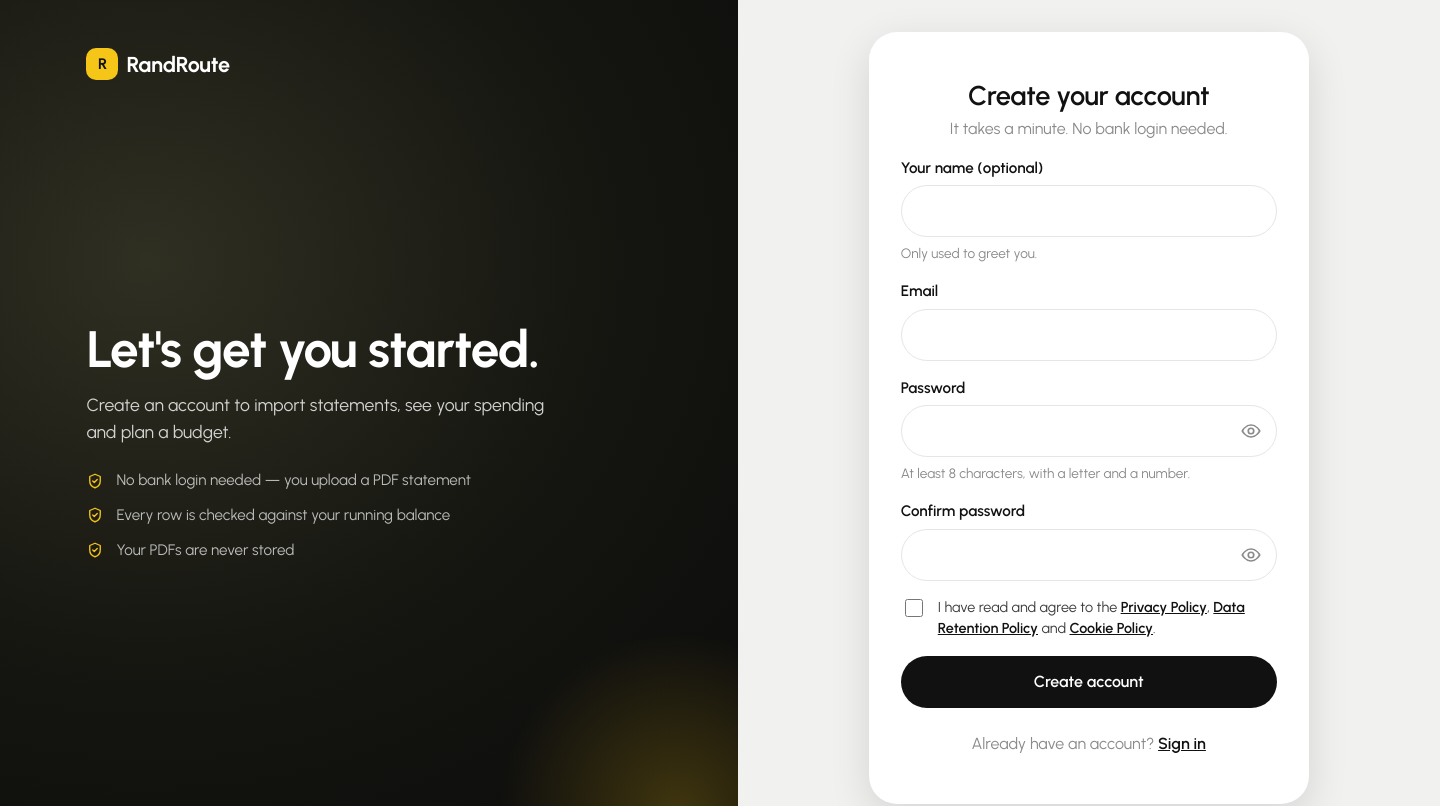
it: signed out › checks the register form before sending it
Type "maredi@example.com" into the field labelled "Email" at (1089, 335), box x1=901 y1=309 x2=1277 y2=361
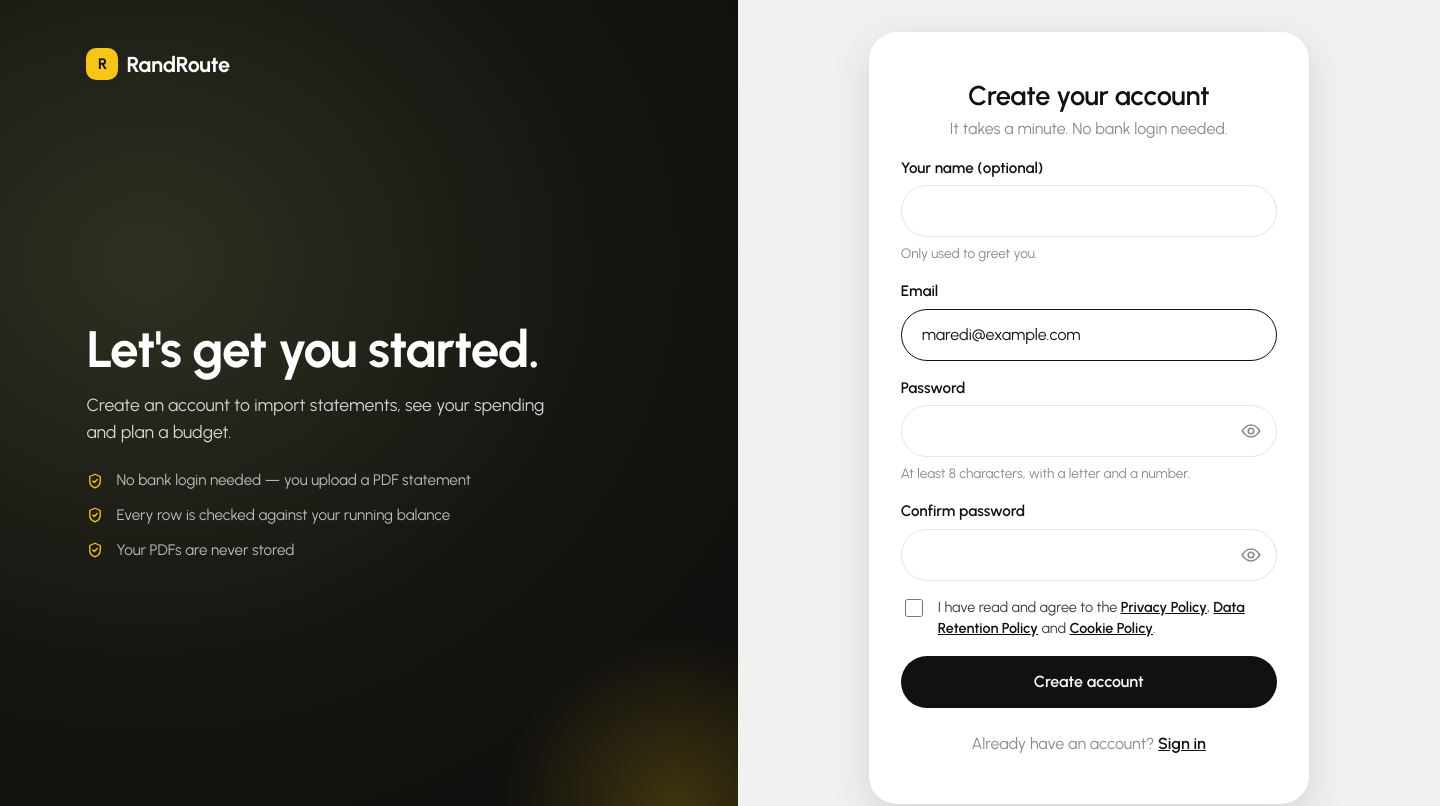
Type "Passw0rd1" into the password field labelled "Password" at (1089, 431), box x1=901 y1=405 x2=1277 y2=457
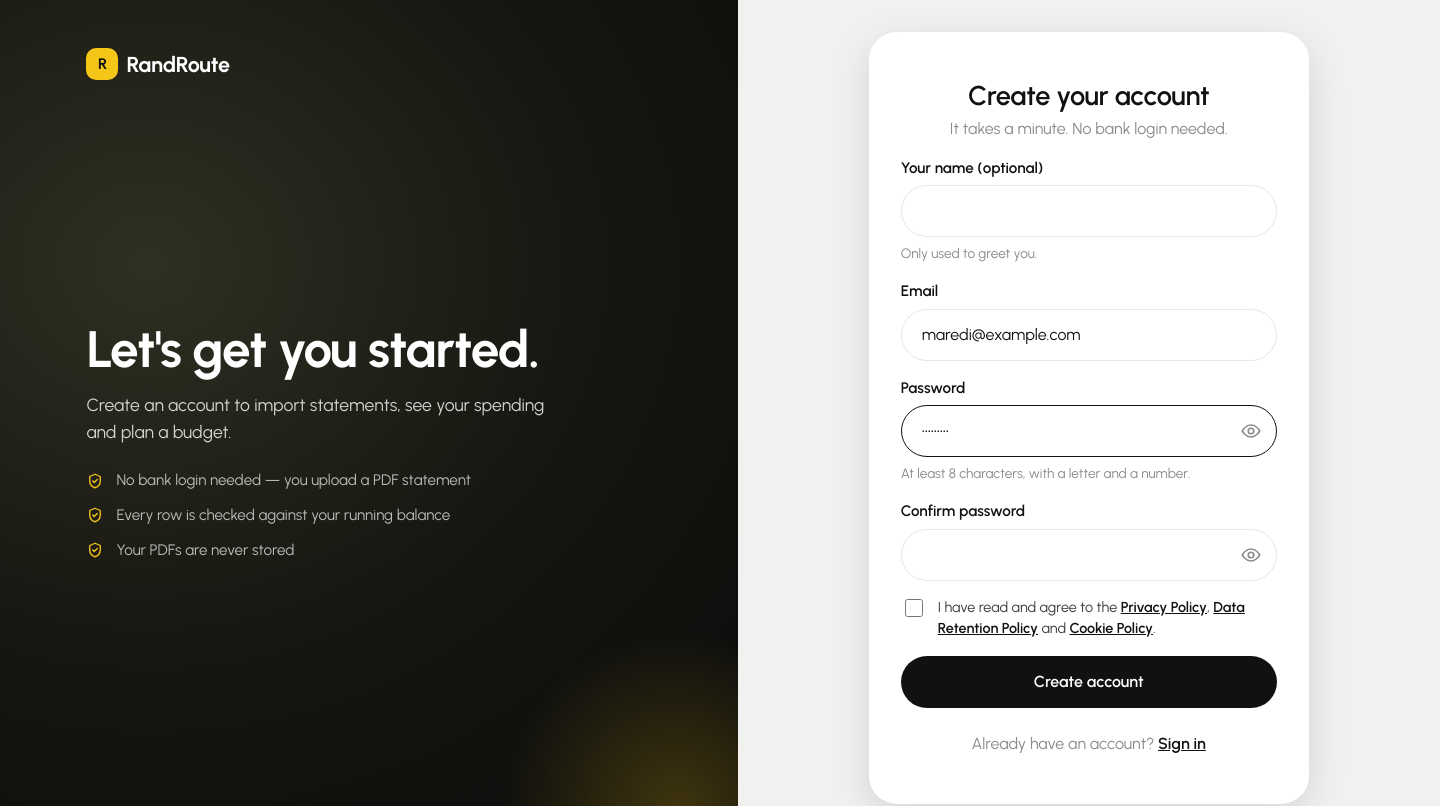
Type "Different1" into the password field labelled "Confirm password" at (1089, 555), box x1=901 y1=529 x2=1277 y2=581
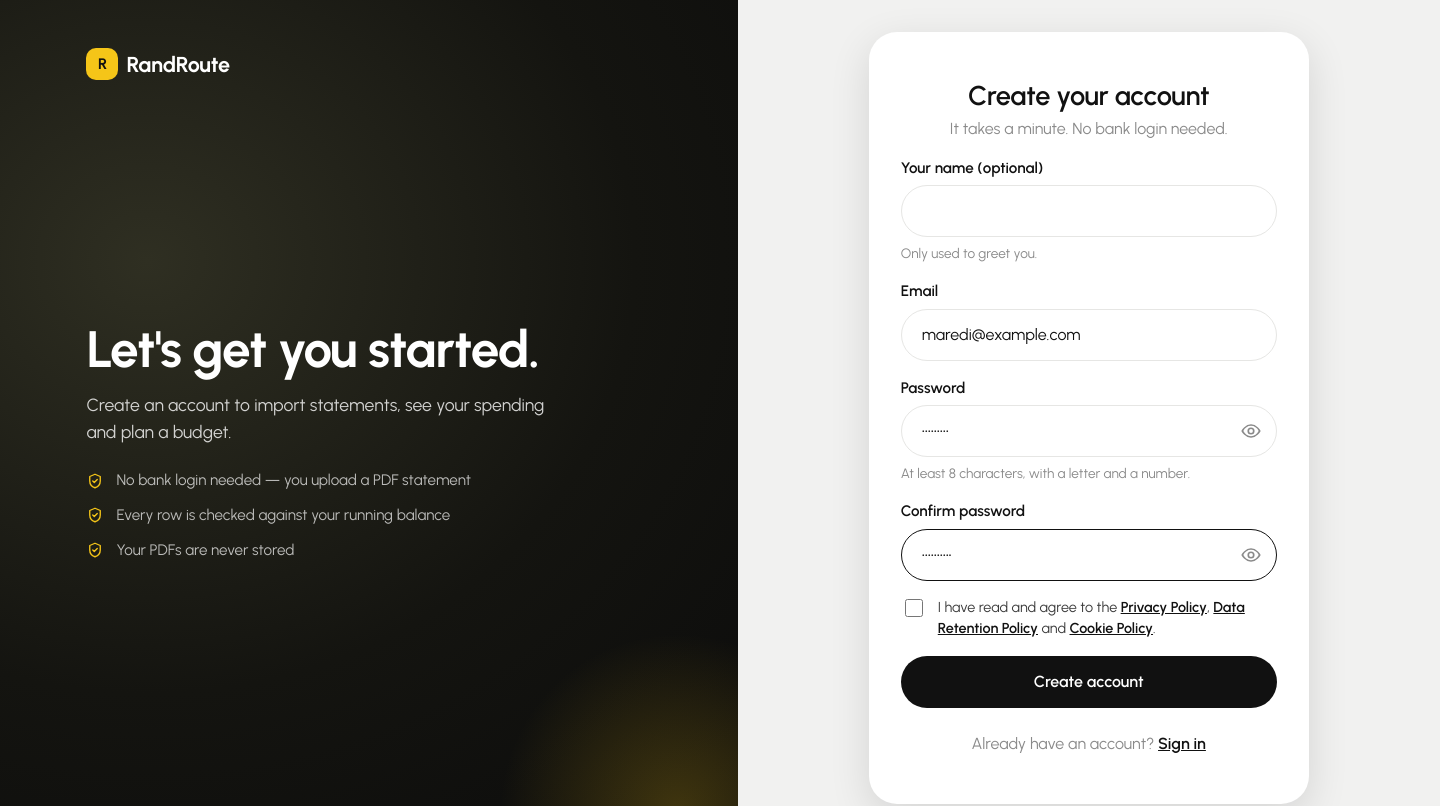
Click the button "Create account" at (1089, 682), box x1=901 y1=656 x2=1277 y2=708
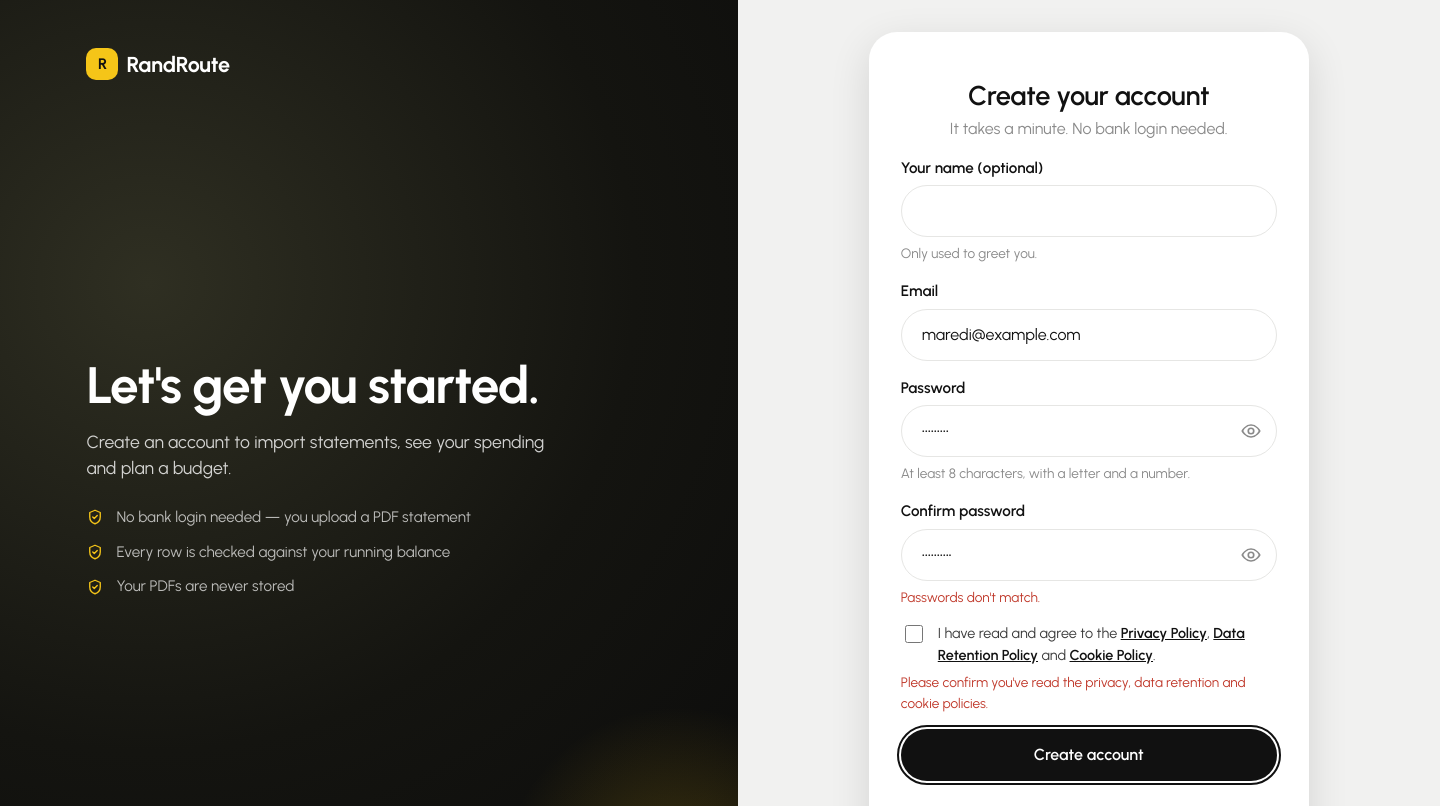
Expected: the text "Passwords don't match." is shown, x1=901 y1=589 x2=1040 y2=605
